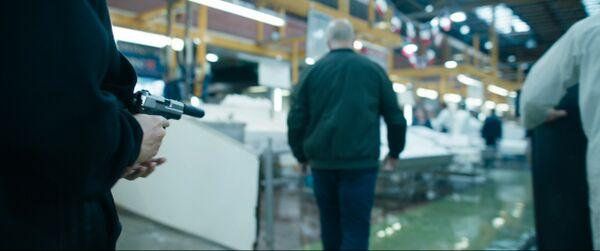Gun: (134, 90, 206, 123)
